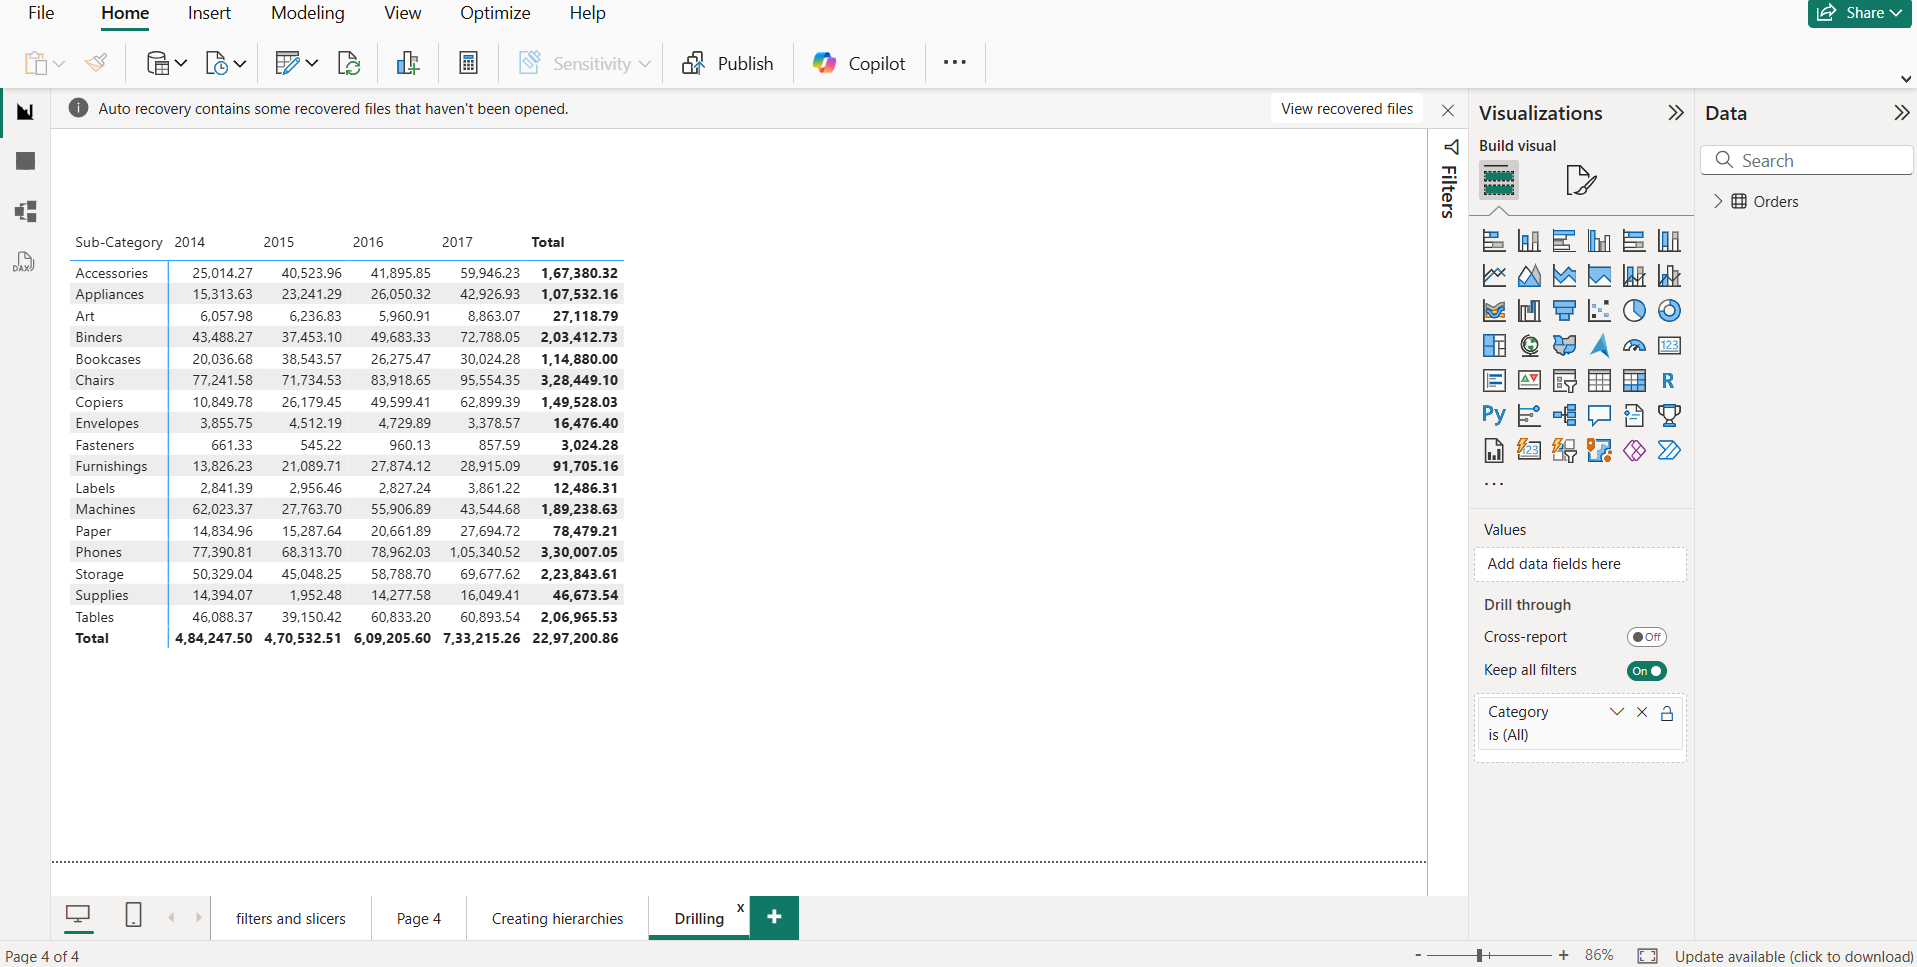

This screenshot's page, from the dashboard's own definition file:
{"tool":"powerbi","page":{"name":"Drilling","canvas":[1280,720],"ordinal":3},"visuals":[{"type":"pivotTable","fields":{"Columns":["Orders.Order Date.Variation.Date Hierarchy.Year","Orders.Order Date.Variation.Date Hierarchy.Quarter","Orders.Order Date.Variation.Date Hierarchy.Month","Orders.Order Date.Variation.Date Hierarchy.Day"],"Values":["Sum(Orders.Sales)"],"Rows":["Orders.Sub-Category"]},"box":[12.8,126.7,574.4,436],"z":0},{"type":"actionButton","box":[0,0,100,40],"z":1000}]}

Visuals, with their boxes on the page's 1280x720 design canvas (x1, y1, x2, y2). These are canvas units, not pixel positions in the 1917x967 screenshot, which may show the page scaled, cropped or inside an application window:
pivotTable - Orders.Order Date.Variation.Date Hierarchy.Year x Orders.Order Date.Variation.Date Hierarchy.Quarter: crop(13, 127, 587, 563)
actionButton: crop(0, 0, 100, 40)
